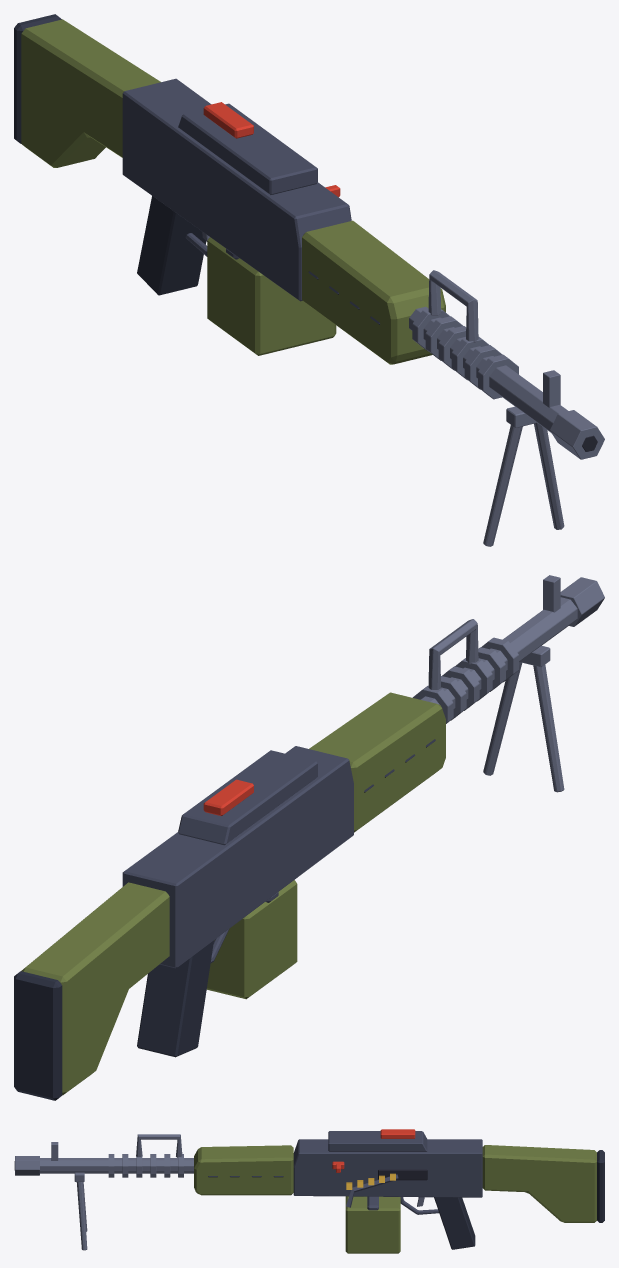
The model's file is myw_lmg.glb.
3 renders of one model, top to bottom at view 1: azimuth 30°, elevation 25°; view 2: azimuth 150°, elevation 25°; view 3: azimuth 270°, elevation 25°, orthographic. The views are drawn at different scales.
Parts seen in each view (by area): view 1: Body, Furniture, Barrel, AmmoBox, Bipod; view 2: Body, Furniture, Barrel, AmmoBox, Bipod; view 3: Body, Furniture, Barrel, AmmoBox, Bipod, Belt.
Part boxes in pixels (bbox=[...]): Body: bbox=[122, 78, 351, 301]; Furniture: bbox=[14, 14, 445, 364]; Barrel: bbox=[409, 270, 604, 459]; AmmoBox: bbox=[207, 237, 336, 355]; Bipod: bbox=[483, 406, 564, 546]; Body: bbox=[122, 746, 353, 1057]; Furniture: bbox=[14, 692, 445, 1100]; Barrel: bbox=[412, 575, 604, 723]; AmmoBox: bbox=[206, 880, 297, 999]; Bipod: bbox=[483, 645, 564, 792]; Body: bbox=[293, 1129, 482, 1249]; Furniture: bbox=[194, 1145, 604, 1222]; Barrel: bbox=[14, 1134, 193, 1177]; AmmoBox: bbox=[345, 1196, 400, 1253]; Bipod: bbox=[74, 1172, 87, 1250]; Belt: bbox=[346, 1173, 398, 1207].
Size of the model in its own units: 0.6491 by 1.26 by 5.94.
